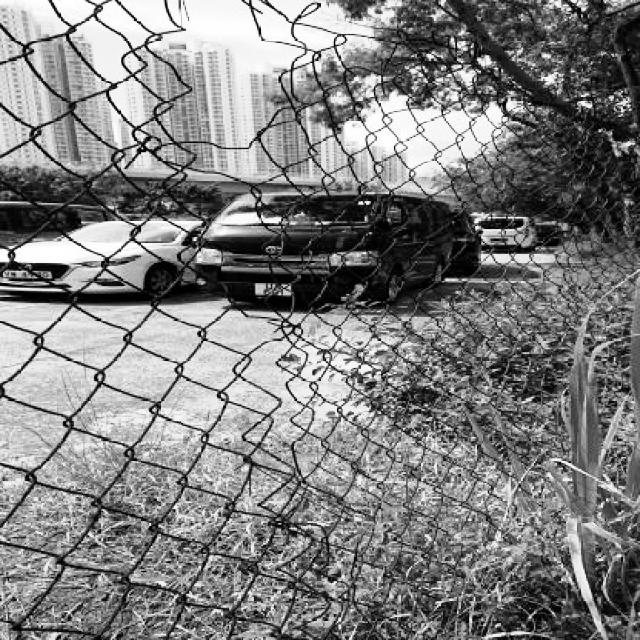anomaly-fence: (120, 0, 438, 495)
